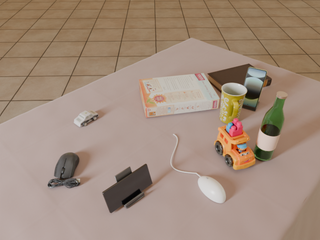book: (208, 64, 272, 92)
bottle: (253, 91, 287, 161)
box: (139, 73, 220, 117)
cup: (220, 83, 247, 124)
mouse: (48, 153, 80, 188), (198, 176, 226, 203)
phone: (102, 164, 152, 213), (243, 67, 267, 107)
toy_car: (214, 118, 255, 170), (74, 110, 99, 127)
